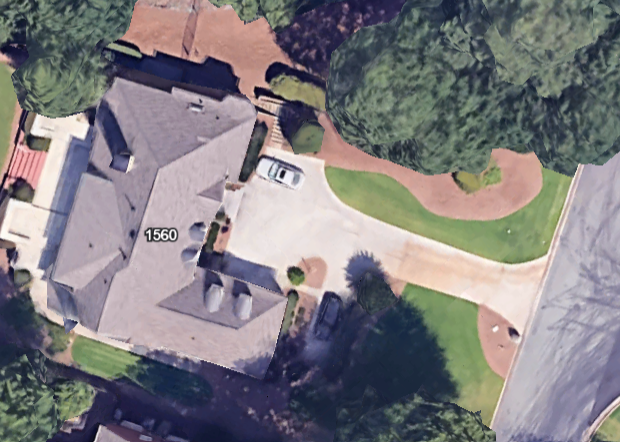driveway: (216, 136, 553, 376)
